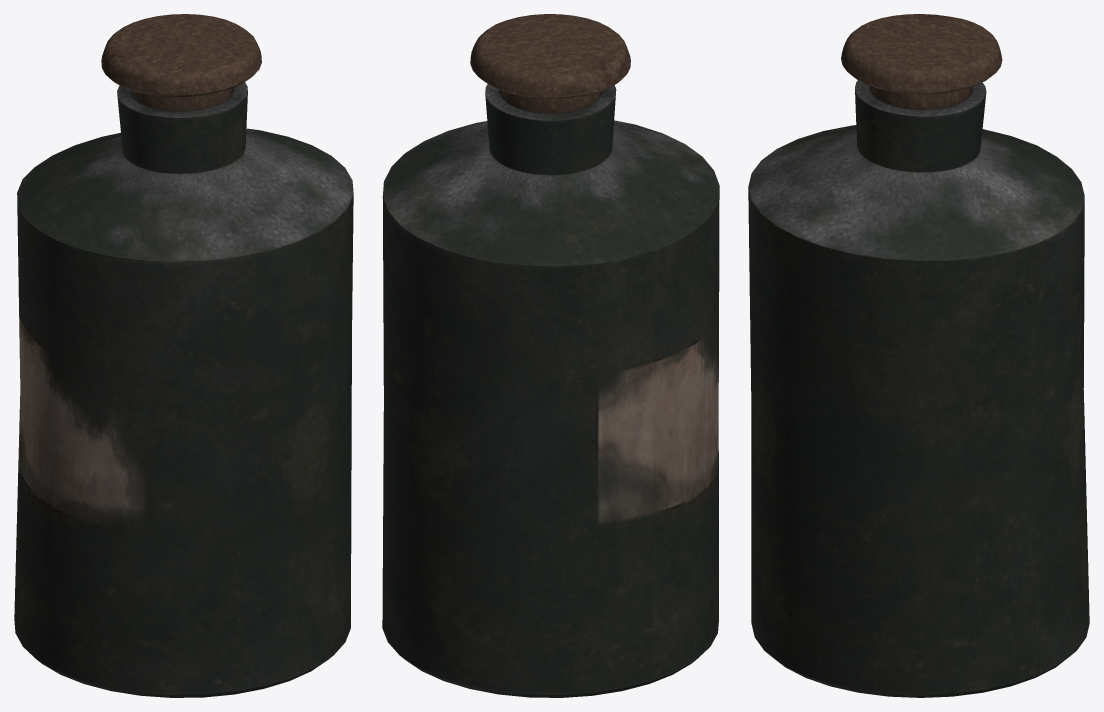
File: SM_Bottles_3.fbx
The picture shows the model from 3 angles, left to right: view 1: azimuth 30°, elevation 25°; view 2: azimuth 150°, elevation 25°; view 3: azimuth 270°, elevation 25°; orthographic projection.
Visible parts, largest first — view 1: SM_Bottles_3_LOD0; view 2: SM_Bottles_3_LOD0; view 3: SM_Bottles_3_LOD0.
Part boxes in pixels (left/top/right/bottom): SM_Bottles_3_LOD0: left=14, top=14, right=353, bottom=697; SM_Bottles_3_LOD0: left=382, top=14, right=719, bottom=697; SM_Bottles_3_LOD0: left=748, top=14, right=1089, bottom=697.
Bounding box in the file's own units: 16.15 × 16.23 × 30.89.
